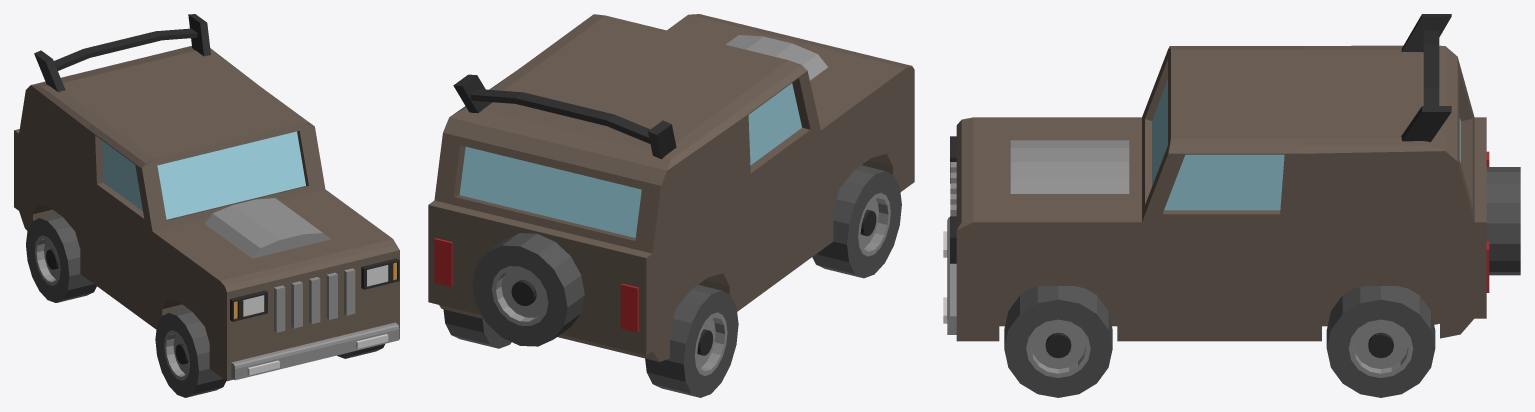
The model's file is SandCar(Old).fbx.
3 views of the same model, side by side, from view 1: azimuth 30°, elevation 25°; view 2: azimuth 150°, elevation 25°; view 3: azimuth 270°, elevation 25° (orthographic). The views are drawn at different scales.
Parts seen in each view (by area): view 1: Cube.014, Cylinder.002, Cylinder.001; view 2: Cube.014, Cylinder.004, Cylinder.002, Cylinder.001, Cylinder.003; view 3: Cube.014, Cylinder.003, Cylinder.005, Cylinder.004.
Boxes of the visible parts, x1,y1,x2,y2 form: Cube.014: (14,14,399,381); Cylinder.002: (26,213,96,302); Cylinder.001: (155,308,226,397); Cube.014: (428,14,914,361); Cylinder.004: (472,233,584,346); Cylinder.002: (645,285,738,397); Cylinder.001: (812,165,901,278); Cylinder.003: (443,309,511,348); Cube.014: (943,14,1489,341); Cylinder.003: (1326,286,1435,397); Cylinder.005: (1004,286,1112,397); Cylinder.004: (1486,167,1520,275).
Size of the model in its own units: 139 by 156 by 293.
